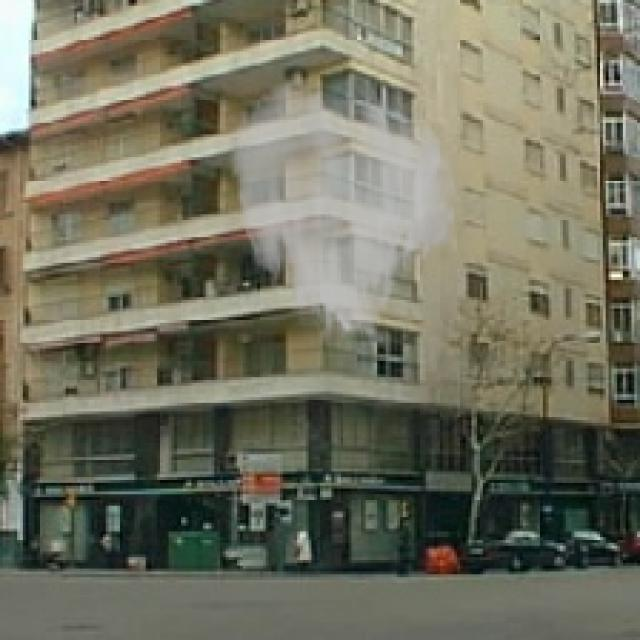smoke: (229, 74, 460, 354)
